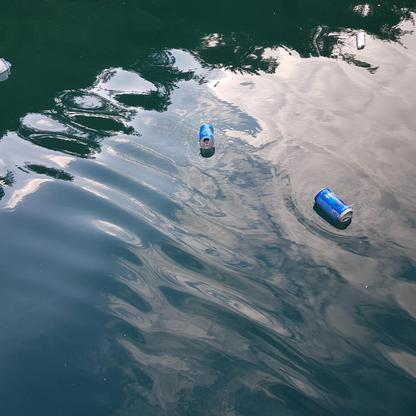can: (312, 184, 354, 228), (199, 124, 215, 150)
